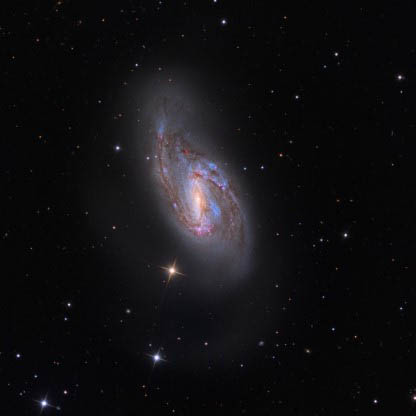Messier 66: (110, 62, 271, 307)
